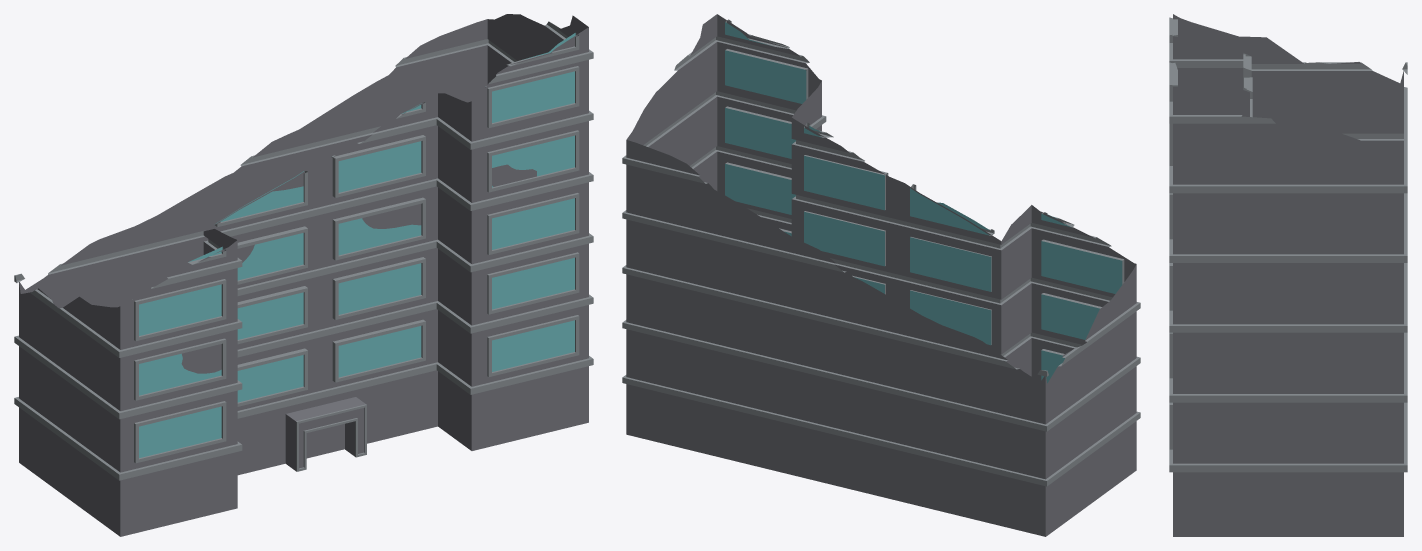
The model's file is Flat2_Verwoest.fbx.
3 views of the same model, side by side, from view 1: azimuth 30°, elevation 25°; view 2: azimuth 150°, elevation 25°; view 3: azimuth 270°, elevation 25° (orthographic). The views are drawn at different scales.
Visible parts, largest first — view 1: Flat2_Verwoest; view 2: Flat2_Verwoest; view 3: Flat2_Verwoest.
Boxes of the visible parts, x1=… form: Flat2_Verwoest: x1=14, y1=14, x2=593, y2=536; Flat2_Verwoest: x1=622, y1=14, x2=1140, y2=536; Flat2_Verwoest: x1=1169, y1=14, x2=1407, y2=536.
Bounding box in the file's own units: 810 × 646 × 310.
